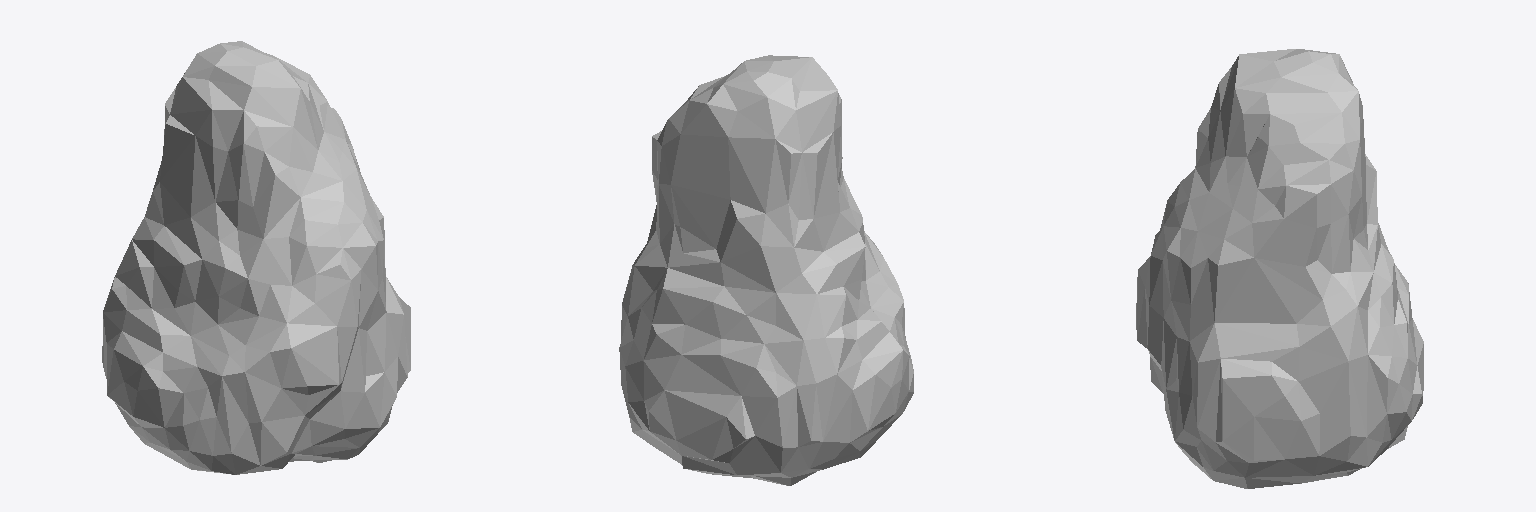
File: rock.obj
The picture shows the model from 3 angles: view 1: azimuth 30°, elevation 25°; view 2: azimuth 150°, elevation 25°; view 3: azimuth 270°, elevation 25°; orthographic projection.
Visible parts, largest first — view 1: Icosphere; view 2: Icosphere; view 3: Icosphere.
Part boxes in pixels (left/top/right/bottom): Icosphere: left=102, top=41, right=410, bottom=474; Icosphere: left=619, top=55, right=913, bottom=485; Icosphere: left=1136, top=49, right=1423, bottom=488.
Size of the model in its own units: 2.68 by 3.97 by 2.62.